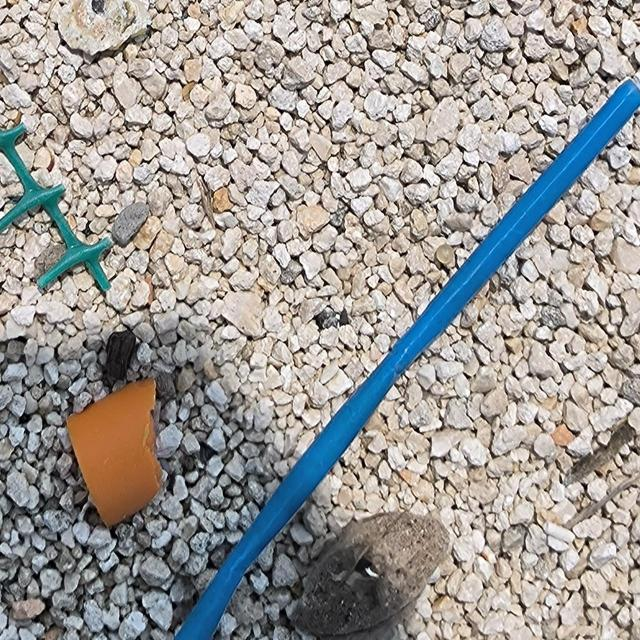plastic_waste: (176, 75, 640, 640)
